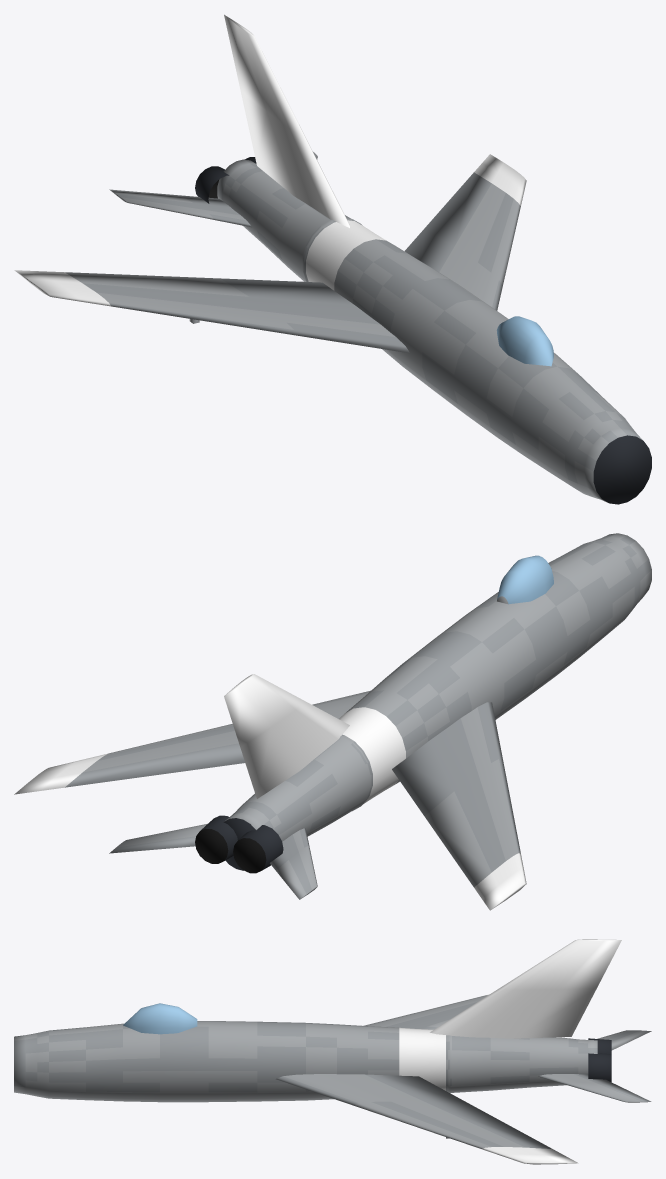
The model's file is mig19s.glb.
3 renders of one model, top to bottom at view 1: azimuth 30°, elevation 25°; view 2: azimuth 150°, elevation 25°; view 3: azimuth 270°, elevation 25°, orthographic. The views are drawn at different scales.
Parts seen in each view (by area): view 1: body; view 2: body; view 3: body.
Boxes of the visible parts, x1,y1,x2,y2 form: body: (14,14,651,504); body: (14,533,651,910); body: (14,939,651,1164).
Size of the model in its own units: 9 by 3.77 by 13.7.
